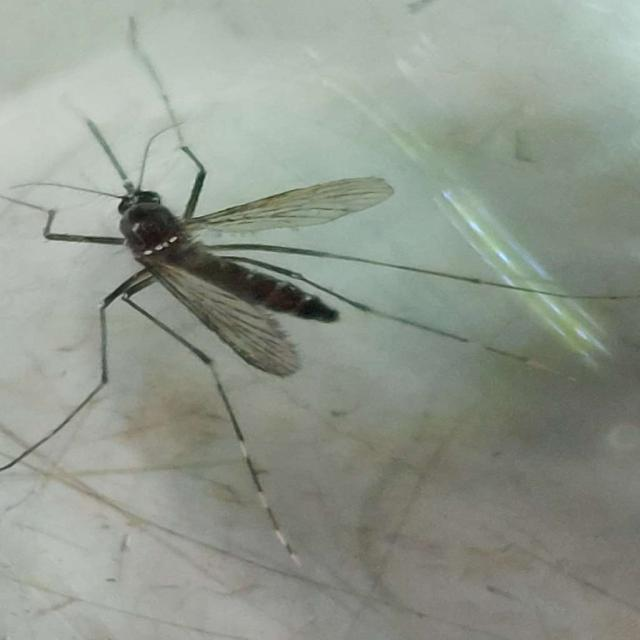albopictus: (6, 48, 537, 562)
